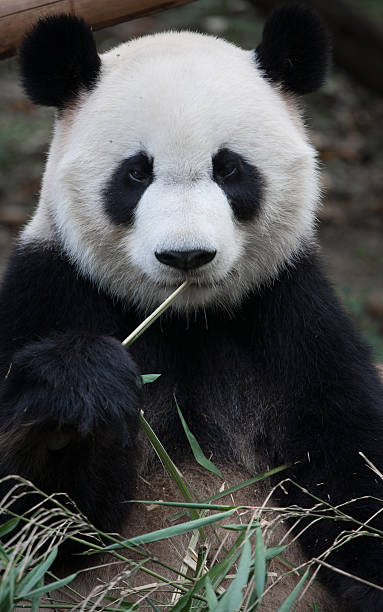panda: (6, 4, 362, 361)
